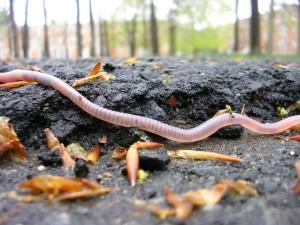earthworms: (3, 24, 296, 165)
